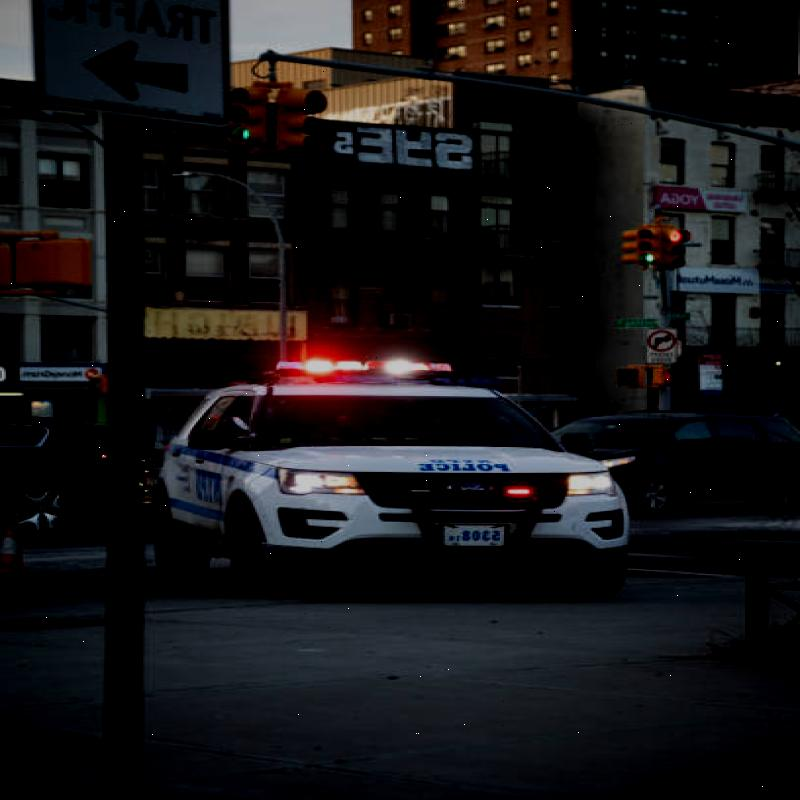AmbulanceSiren: (257, 340, 472, 399)
